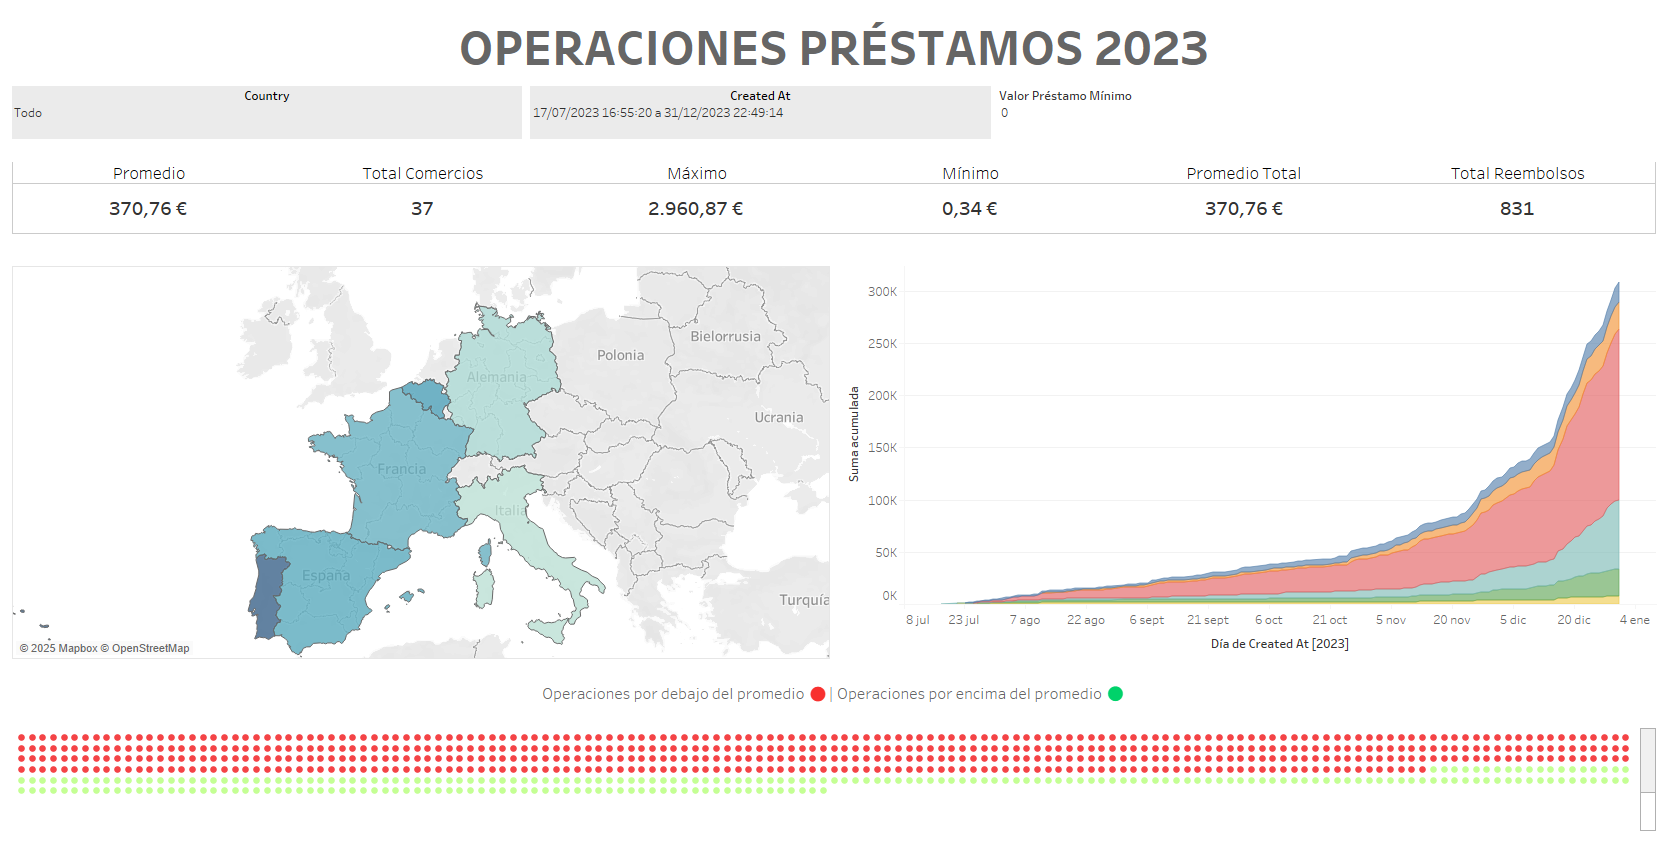

What the dashboard file says about the page in this screenshot:
{"tool":"tableau","page":{"name":"Dashboard","canvas":[1000,1000],"units":"permille","ordinal":0},"visuals":[{"type":"text","box":[4.8,9.5,990.4,88.4]},{"type":"filter","title":"KPI","param":"[federated.1rfxqso0nv5oxh1asrhzt1bo9yti].[none:country:nk]","box":[4.8,97.9,310.4,71.9]},{"type":"filter","title":"KPI","param":"[federated.1rfxqso0nv5oxh1asrhzt1bo9yti].[none:created_at:qk]","box":[315.2,97.9,281.6,71.9]},{"type":"parameter","param":"[Parameters].[Parameter 1]","box":[596.8,97.9,398.4,71.9]},{"type":"worksheet","title":"KPI","mark":"Automatic","cols":["Calculation_5309392148833935367"],"box":[4.8,169.8,990.4,141.3]},{"type":"worksheet","title":"Mapa","mark":"Multipolygon","box":[4.8,311.2,495.2,476.4]},{"type":"worksheet","title":"Area","mark":"Area","rows":["Calculation_1330813722036740099"],"cols":["created_at"],"box":[500,311.2,495.2,476.4]},{"type":"text","box":[4.8,787.6,990.4,72.5]},{"type":"worksheet","title":"Desv","mark":"Circle","box":[4.8,860.1,990.4,130.4]}]}

Visuals, with their boxes on the dashboard's canvas, which has no fixed pixel size, in thousandths of its width and height (x1, y1, x2, y2). These are canvas units, not pixel positions in the 1668x842 screenshot, which may show the page scaled, cropped or inside an application window:
text: Rect(5, 10, 995, 98)
"KPI" filter: Rect(5, 98, 315, 170)
"KPI" filter: Rect(315, 98, 597, 170)
parameter: Rect(597, 98, 995, 170)
"KPI" worksheet: Rect(5, 170, 995, 311)
"Mapa" worksheet (Multipolygon marks): Rect(5, 311, 500, 788)
"Area" worksheet (Area marks): Rect(500, 311, 995, 788)
text: Rect(5, 788, 995, 860)
"Desv" worksheet (Circle marks): Rect(5, 860, 995, 990)
